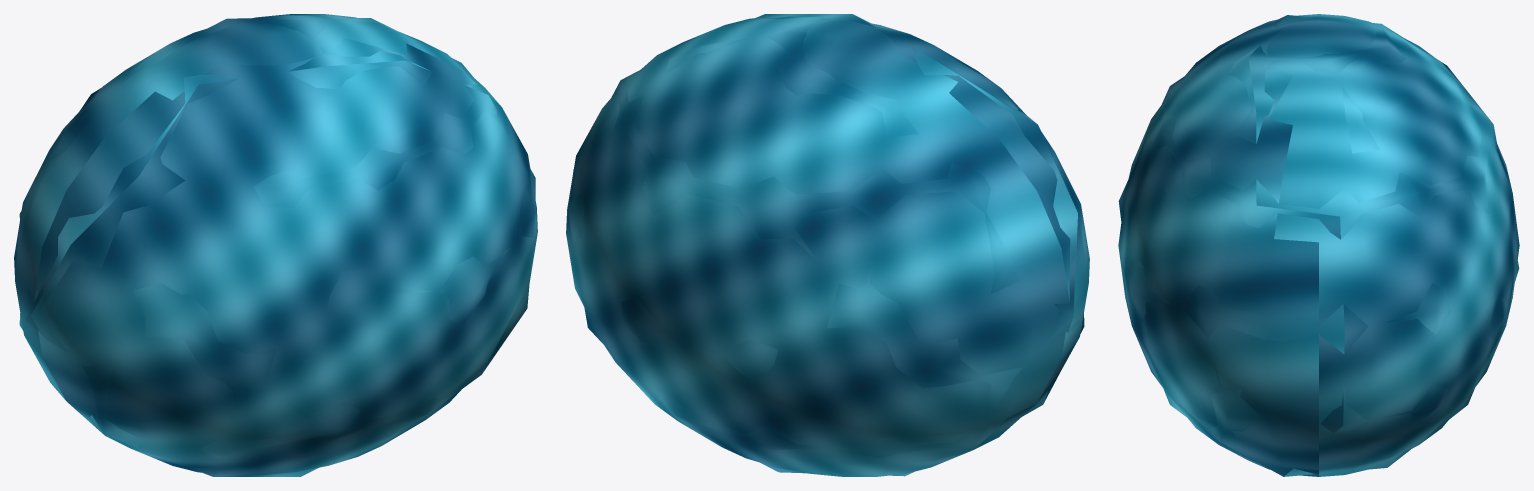
Rendered from cell_body.fbx.
3 views of the same model, side by side, from view 1: azimuth 30°, elevation 25°; view 2: azimuth 150°, elevation 25°; view 3: azimuth 270°, elevation 25° (orthographic). The views are drawn at different scales.
Parts seen in each view (by area): view 1: cell_body_VIS, cell_body_COL; view 2: cell_body_VIS, cell_body_COL; view 3: cell_body_VIS, cell_body_COL.
Part boxes in pixels (x1,y1,x2,y2): cell_body_VIS: [14, 14, 537, 475]; cell_body_COL: [19, 18, 535, 476]; cell_body_VIS: [566, 16, 1089, 476]; cell_body_COL: [568, 14, 1084, 476]; cell_body_VIS: [1118, 14, 1519, 476]; cell_body_COL: [1118, 15, 1519, 476].
Size of the model in its own units: 133 by 110 by 99.
